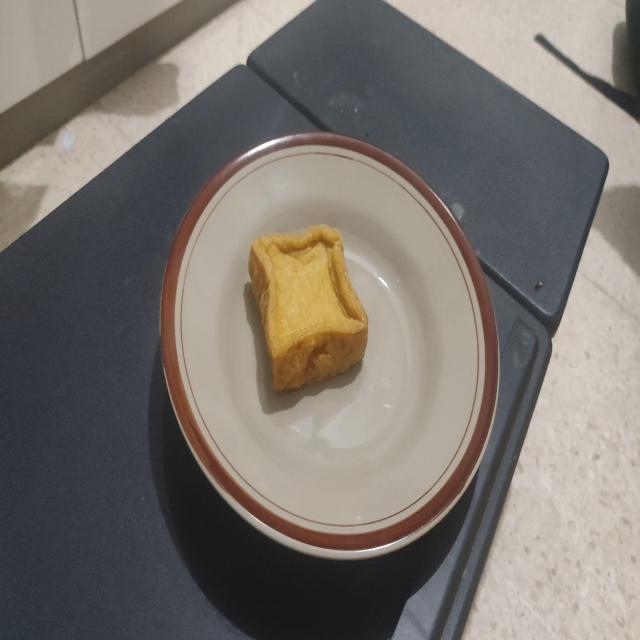tahu_goreng: (249, 225, 368, 391)
